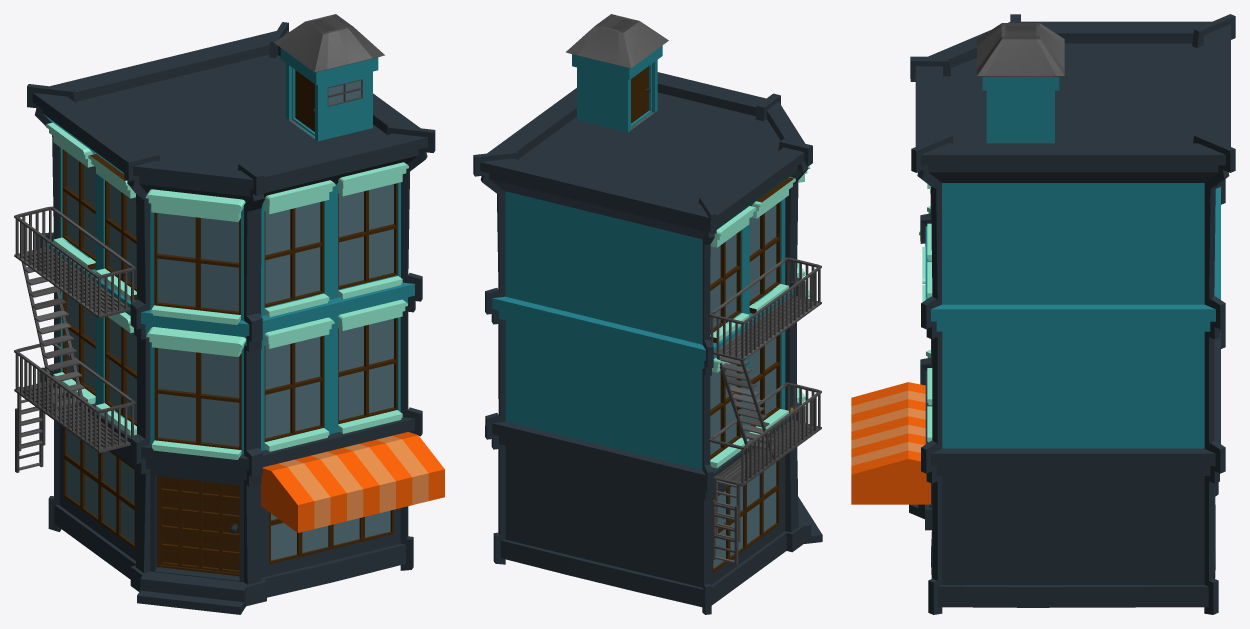
Rendered from CornerBuildings.fbx_Corner_Building_-_Blue.fbx.
3 renders of one model, left to right at view 1: azimuth 30°, elevation 25°; view 2: azimuth 150°, elevation 25°; view 3: azimuth 270°, elevation 25°, orthographic. The views are drawn at different scales.
Parts seen in each view (by area): view 1: Cube.007; view 2: Cube.007; view 3: Cube.007.
Boxes of the visible parts, box(x1,y1,x2,y2) form: Cube.007: box(14, 14, 444, 614); Cube.007: box(473, 14, 822, 614); Cube.007: box(851, 14, 1235, 614).
Size of the model in its own units: 1689 by 1542 by 2734.
